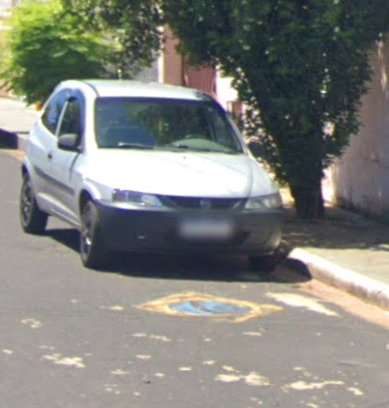car: (18, 63, 287, 299)
